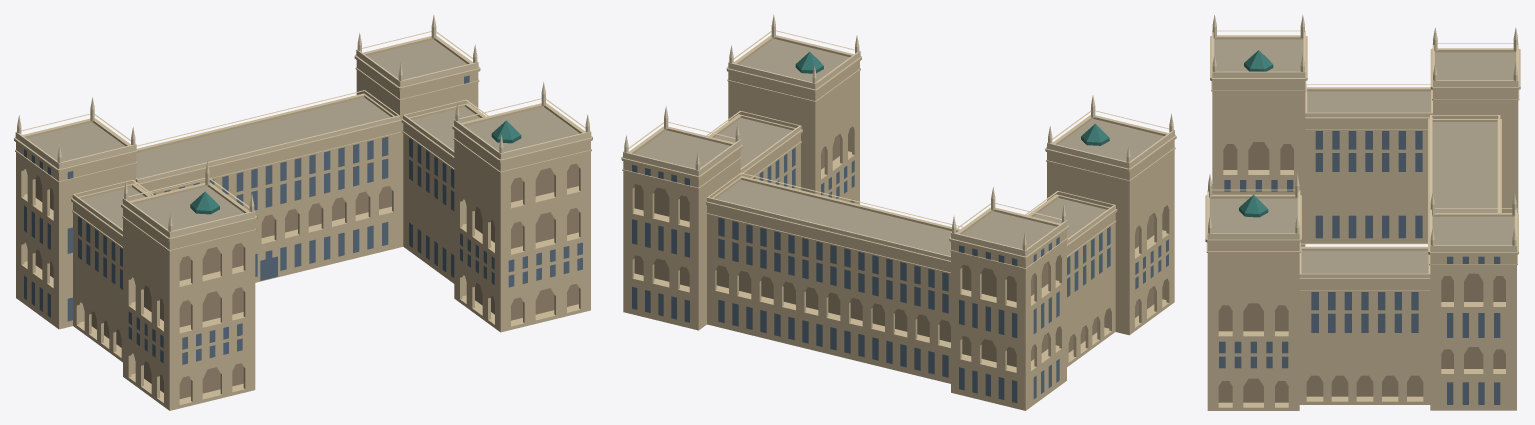
File: baku-government-house.glb
3 views of the same model, side by side, from view 1: azimuth 30°, elevation 25°; view 2: azimuth 150°, elevation 25°; view 3: azimuth 270°, elevation 25° (orthographic). The views are drawn at different scales.
Parts seen in each view (by area): view 1: Government House; view 2: Government House; view 3: Government House.
Part boxes in pixels (x1,y1,x2,y2): Government House: [14, 15, 592, 410]; Government House: [621, 14, 1176, 410]; Government House: [1205, 15, 1520, 410].
Bounding box in the file's own units: 105 × 46.6 × 68.2.
